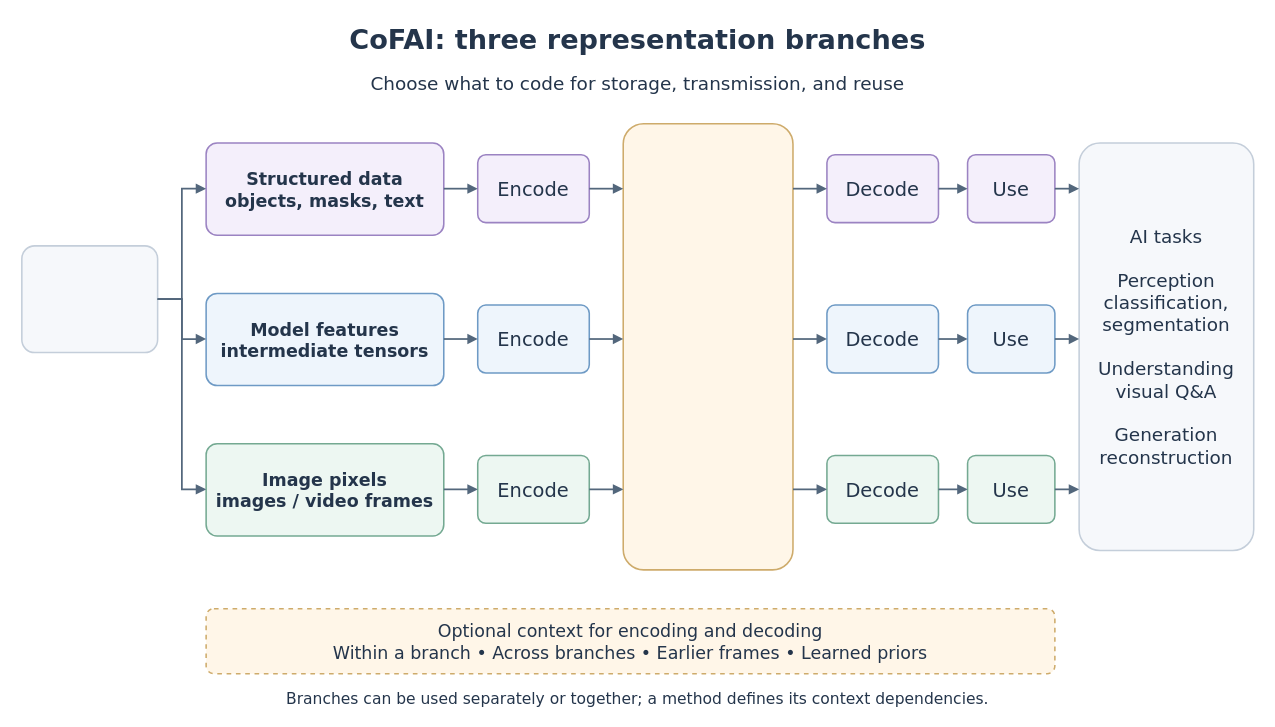
Image size: 1275x727. Some labels were removed from this diagram. The shapes that lost their labels are listed below. From the top down, each one's centre as x and y in pixels, then its label:
At (89,299): "Image / video input".
At (707,346): "Store or transmit coded data".
